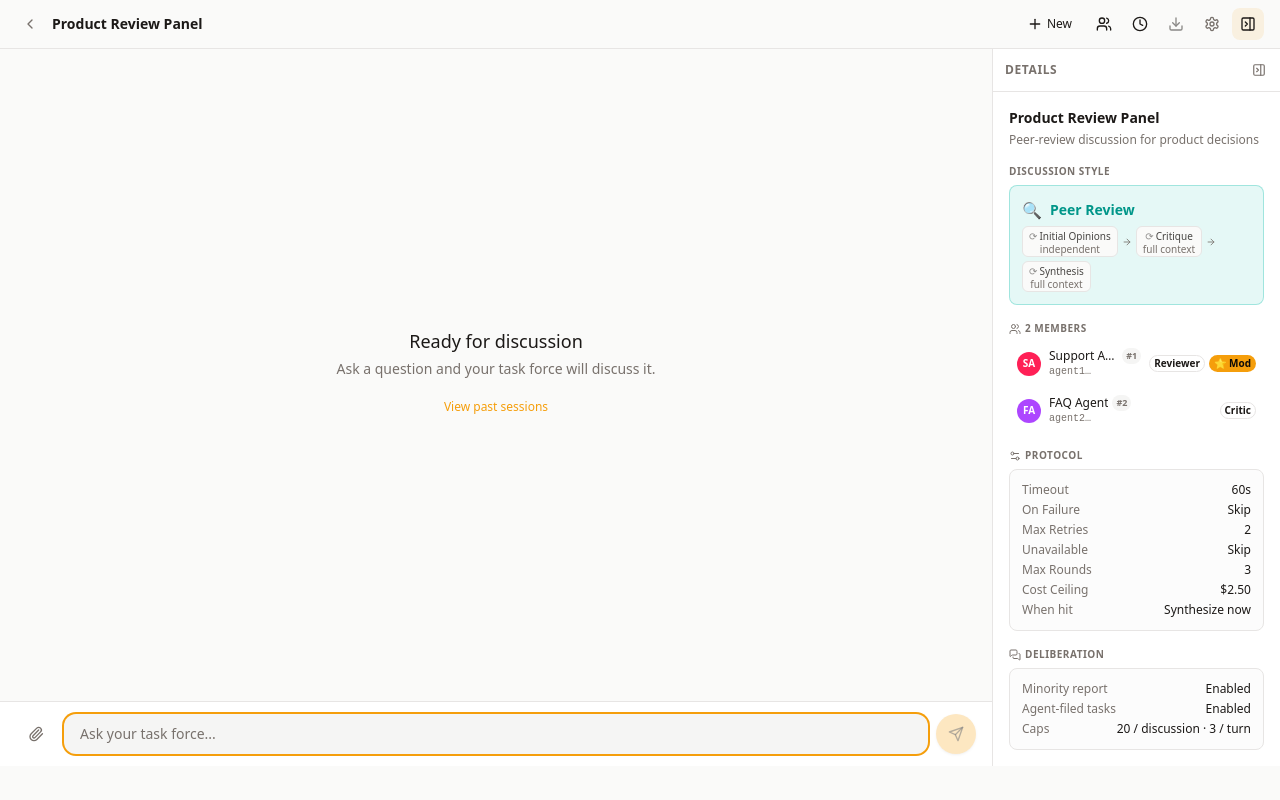
Workforce Pages › WorkforceBoard › toggles members panel
Click "Team" toggle — find by aria-label
Step 1. Click the button named "Team" → (1104, 24), box [1088,8,1120,40]
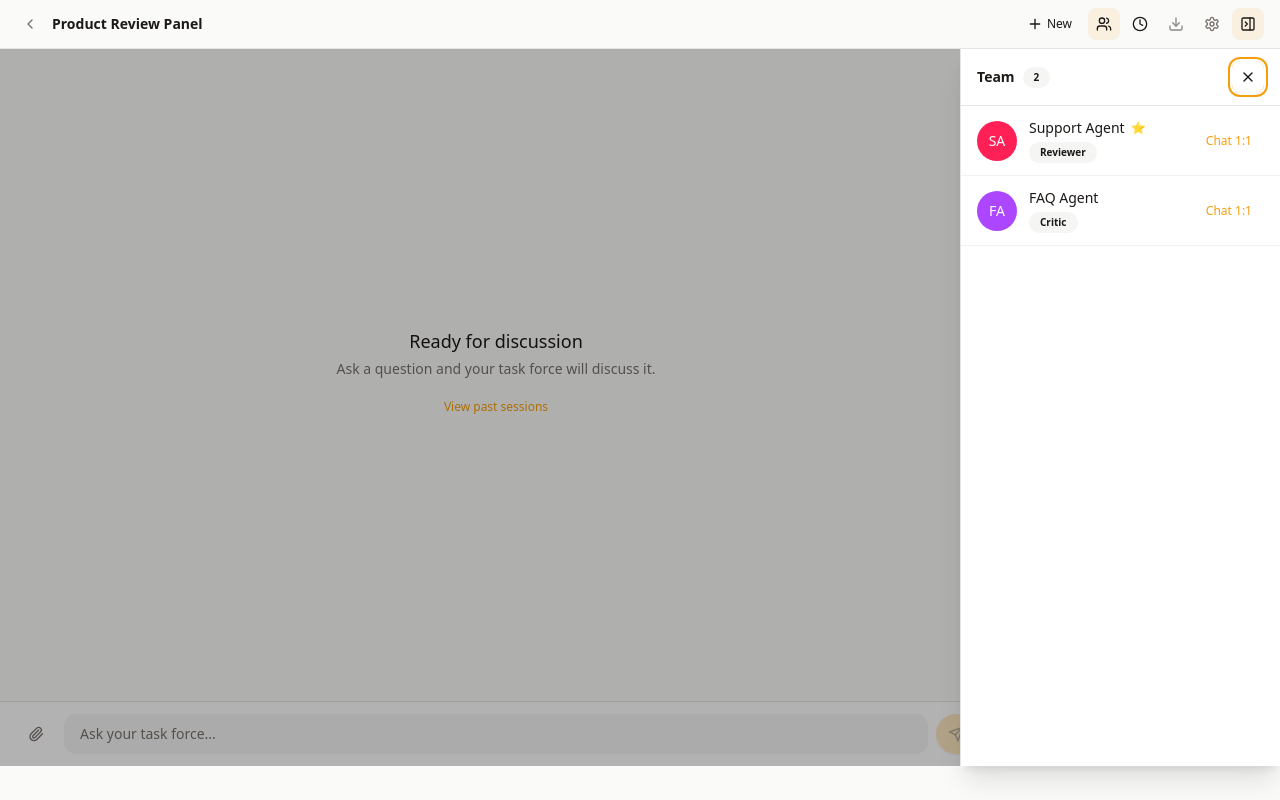
Now the dialog is shown, box [960,49,1279,766]
